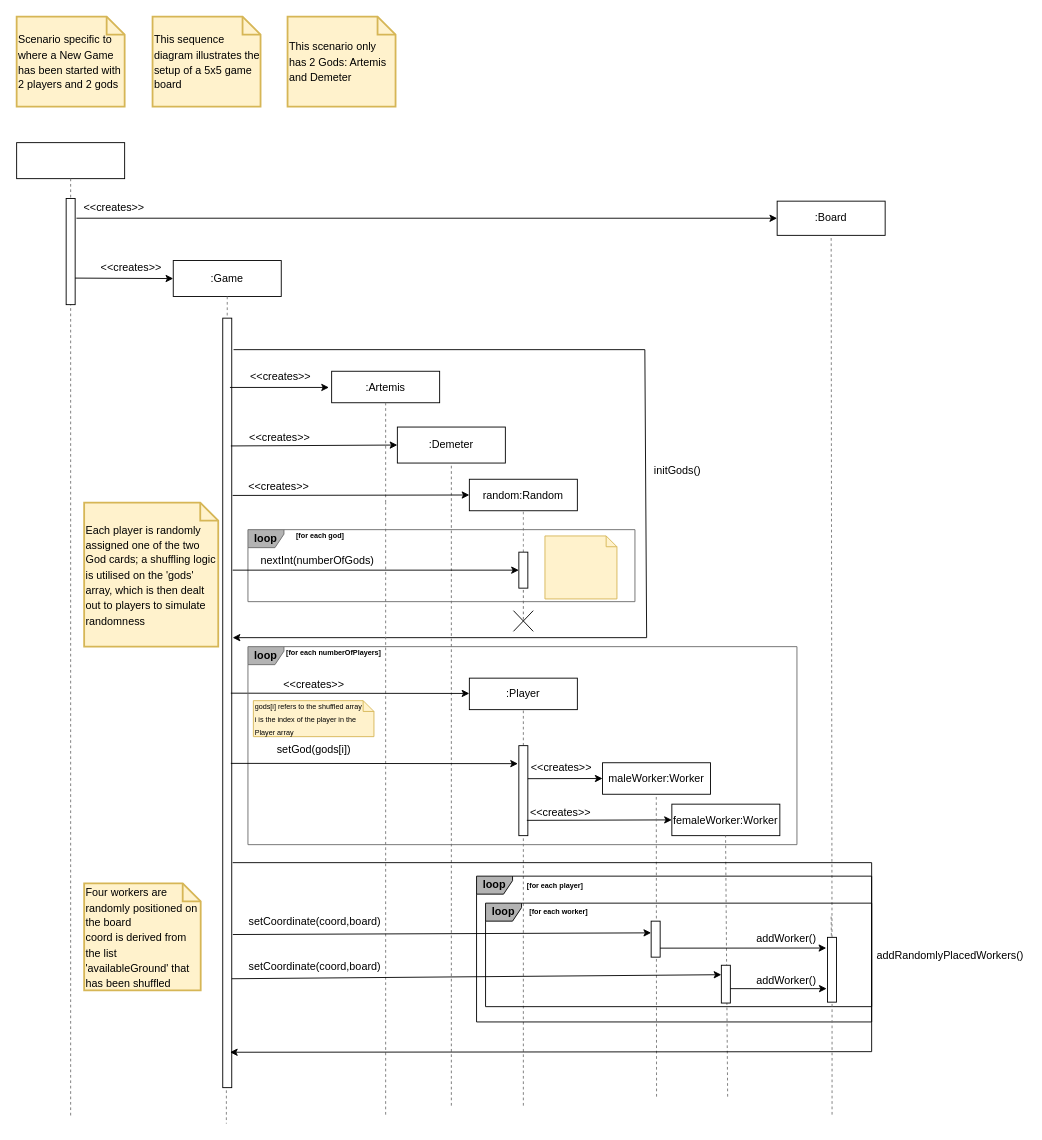
Image size: 1042x1140. Some labels were removed from this diagram. The shapes that lost their labels are listed below. From the top down, each one's centre as x and y in pixels, then its label:
pixel 70 160: :NewGamePanel
pixel 580 567: The random integer generated determines the new index for each God
